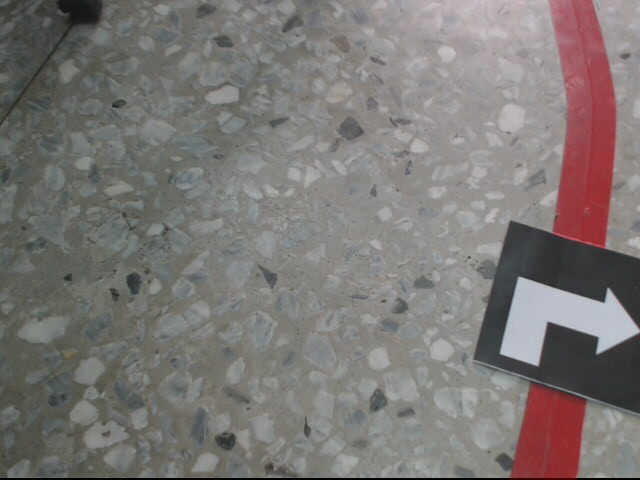right: (477, 220, 639, 417)
